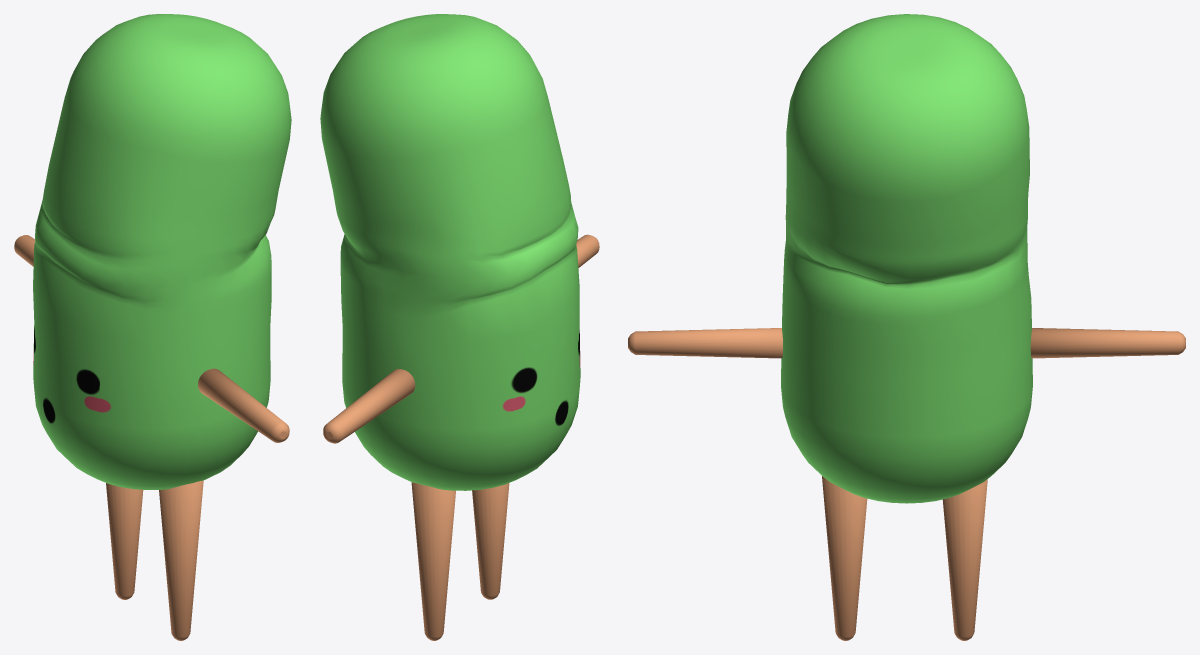
The model's file is beanboi3.glb.
The picture shows the model from 3 angles, left to right: view 1: azimuth 30°, elevation 25°; view 2: azimuth 150°, elevation 25°; view 3: azimuth 270°, elevation 25°; orthographic projection. The views are drawn at different scales.
Parts seen in each view (by area): view 1: Cylinder.004, leg.001, leg, arm.001, arm; view 2: Cylinder.004, leg, leg.001, arm, arm.001; view 3: Cylinder.004, leg.001, leg, arm, arm.001.
Boxes of the visible parts, <box> form: Cylinder.004: <box>33,14,291,489</box>; leg.001: <box>159,480,203,640</box>; leg: <box>106,483,143,599</box>; arm.001: <box>198,368,289,442</box>; arm: <box>14,235,35,266</box>; Cylinder.004: <box>320,14,580,490</box>; leg: <box>411,482,455,640</box>; leg.001: <box>472,483,509,599</box>; arm: <box>323,369,415,443</box>; arm.001: <box>576,234,599,267</box>; Cylinder.004: <box>781,14,1032,503</box>; leg.001: <box>822,476,867,640</box>; leg: <box>942,479,987,640</box>; arm: <box>1030,328,1185,358</box>; arm.001: <box>628,328,782,358</box>.
Bounding box in the file's own units: 4.69 × 11.48 × 9.37.
Materials: 2 (1 with a texture image).
